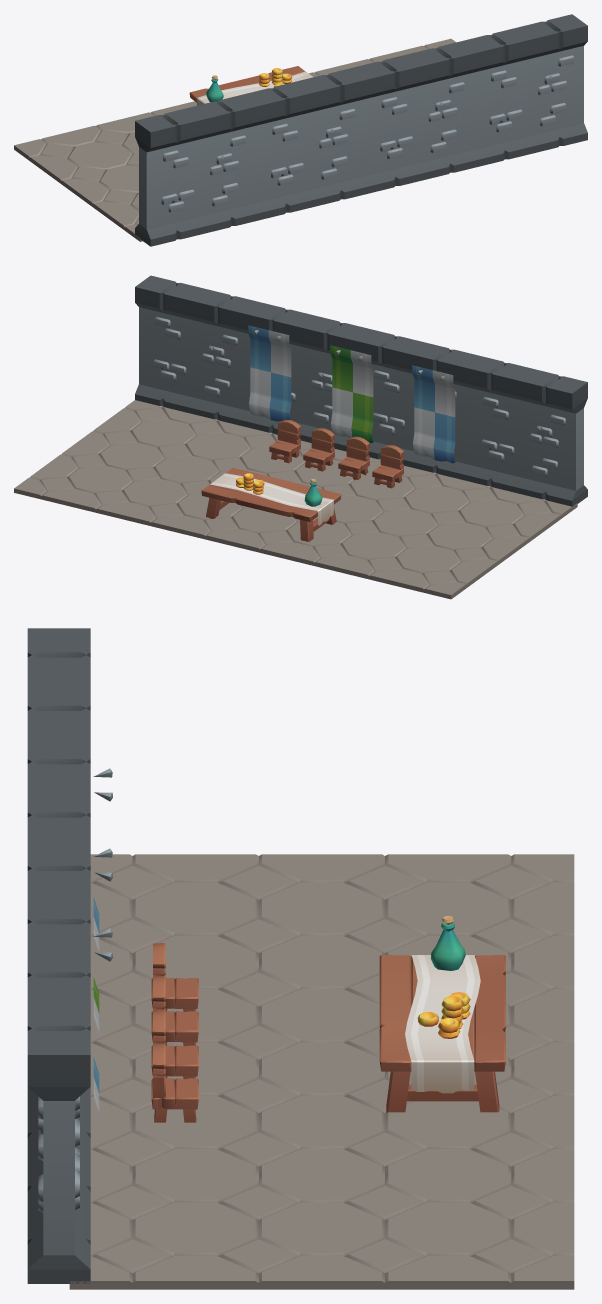
File: lobby.gltf
3 renders of one model, top to bottom at view 1: azimuth 30°, elevation 25°; view 2: azimuth 150°, elevation 25°; view 3: azimuth 270°, elevation 25°, orthographic. The views are drawn at different scales.
Visible parts, largest first — view 1: wall.002, wall.001, wall.003, wall, floor_tile_large.007, floor_tile_large.006, table_long_tablecloth, floor_tile_large.005, floor_tile_large, coin_stack_small; view 2: wall.002, wall.003, wall, wall.001, floor_tile_large.007, floor_tile_large.005, floor_tile_large.006, floor_tile_large.004, floor_tile_large, floor_tile_large.002, floor_tile_large.001, table_long_tablecloth (+8 smaller); view 3: floor_tile_large.005, floor_tile_large.004, floor_tile_large.007, floor_tile_large.006, floor_tile_large.002, floor_tile_large.003, floor_tile_large.001, wall.003, table_long_tablecloth, floor_tile_large, wall.001, wall (+7 smaller).
Boxes of the visible parts, x1,y1,x2,y2 form: wall.002: [135, 94, 259, 246]; wall.001: [354, 41, 478, 193]; wall.003: [463, 14, 587, 166]; wall: [244, 67, 369, 219]; floor_tile_large.007: [14, 118, 138, 195]; floor_tile_large.006: [77, 176, 142, 241]; table_long_tablecloth: [189, 66, 313, 105]; floor_tile_large.005: [342, 38, 455, 68]; floor_tile_large: [124, 101, 196, 126]; coin_stack_small: [259, 68, 292, 86]; wall.002: [463, 355, 587, 506]; wall.003: [135, 275, 259, 426]; wall: [353, 329, 478, 479]; wall.001: [244, 302, 368, 451]; floor_tile_large.007: [342, 522, 514, 599]; floor_tile_large.005: [14, 442, 185, 519]; floor_tile_large.006: [405, 480, 577, 552]; floor_tile_large.004: [77, 400, 243, 468]; floor_tile_large: [232, 505, 404, 572]; floor_tile_large.002: [123, 469, 271, 545]; floor_tile_large.001: [309, 457, 462, 522]; table_long_tablecloth: [201, 467, 341, 541]; floor_tile_large.005: [322, 1174, 574, 1289]; floor_tile_large.004: [69, 1174, 321, 1289]; floor_tile_large.007: [322, 854, 574, 962]; floor_tile_large.006: [90, 854, 321, 962]; floor_tile_large.002: [322, 1067, 574, 1175]; floor_tile_large.003: [90, 1067, 321, 1175]; floor_tile_large.001: [90, 961, 321, 1069]; wall.003: [27, 948, 90, 1283]; table_long_tablecloth: [379, 955, 505, 1112]; floor_tile_large: [322, 961, 574, 1069]; wall.001: [27, 841, 90, 1162]; wall: [27, 735, 90, 841].
Bounding box in the file's own units: 16 × 4.1 × 8.66.
8 materials, 8 textured.
